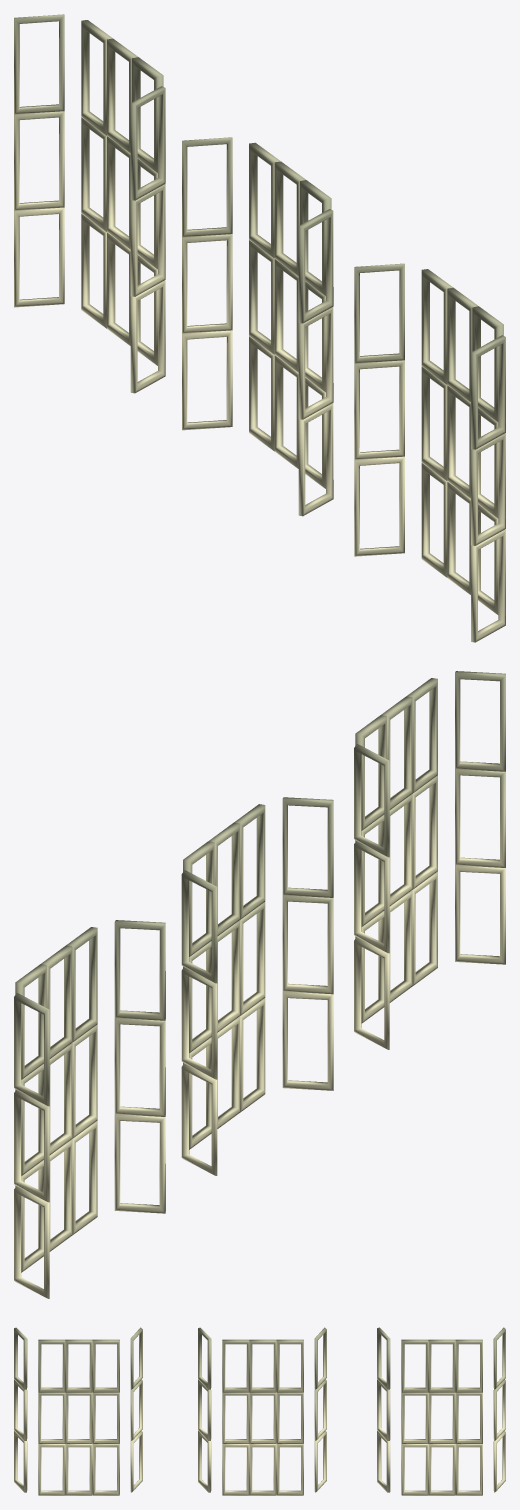
The model's file is window frame.fbx.
3 views of the same model, one above another, from view 1: azimuth 30°, elevation 25°; view 2: azimuth 150°, elevation 25°; view 3: azimuth 270°, elevation 25° (orthographic). The views are drawn at different scales.
Visible parts, largest first — view 1: window_curtains.002; view 2: window_curtains.002; view 3: window_curtains.002.
Part boxes in pixels (x1=…): window_curtains.002: x1=14, y1=14, x2=505, y2=642; window_curtains.002: x1=14, y1=671, x2=505, y2=1298; window_curtains.002: x1=14, y1=1327, x2=505, y2=1495.
Bounding box in the file's own units: 54.74 × 280 × 810.
Materials: 1 (1 with a texture image).
